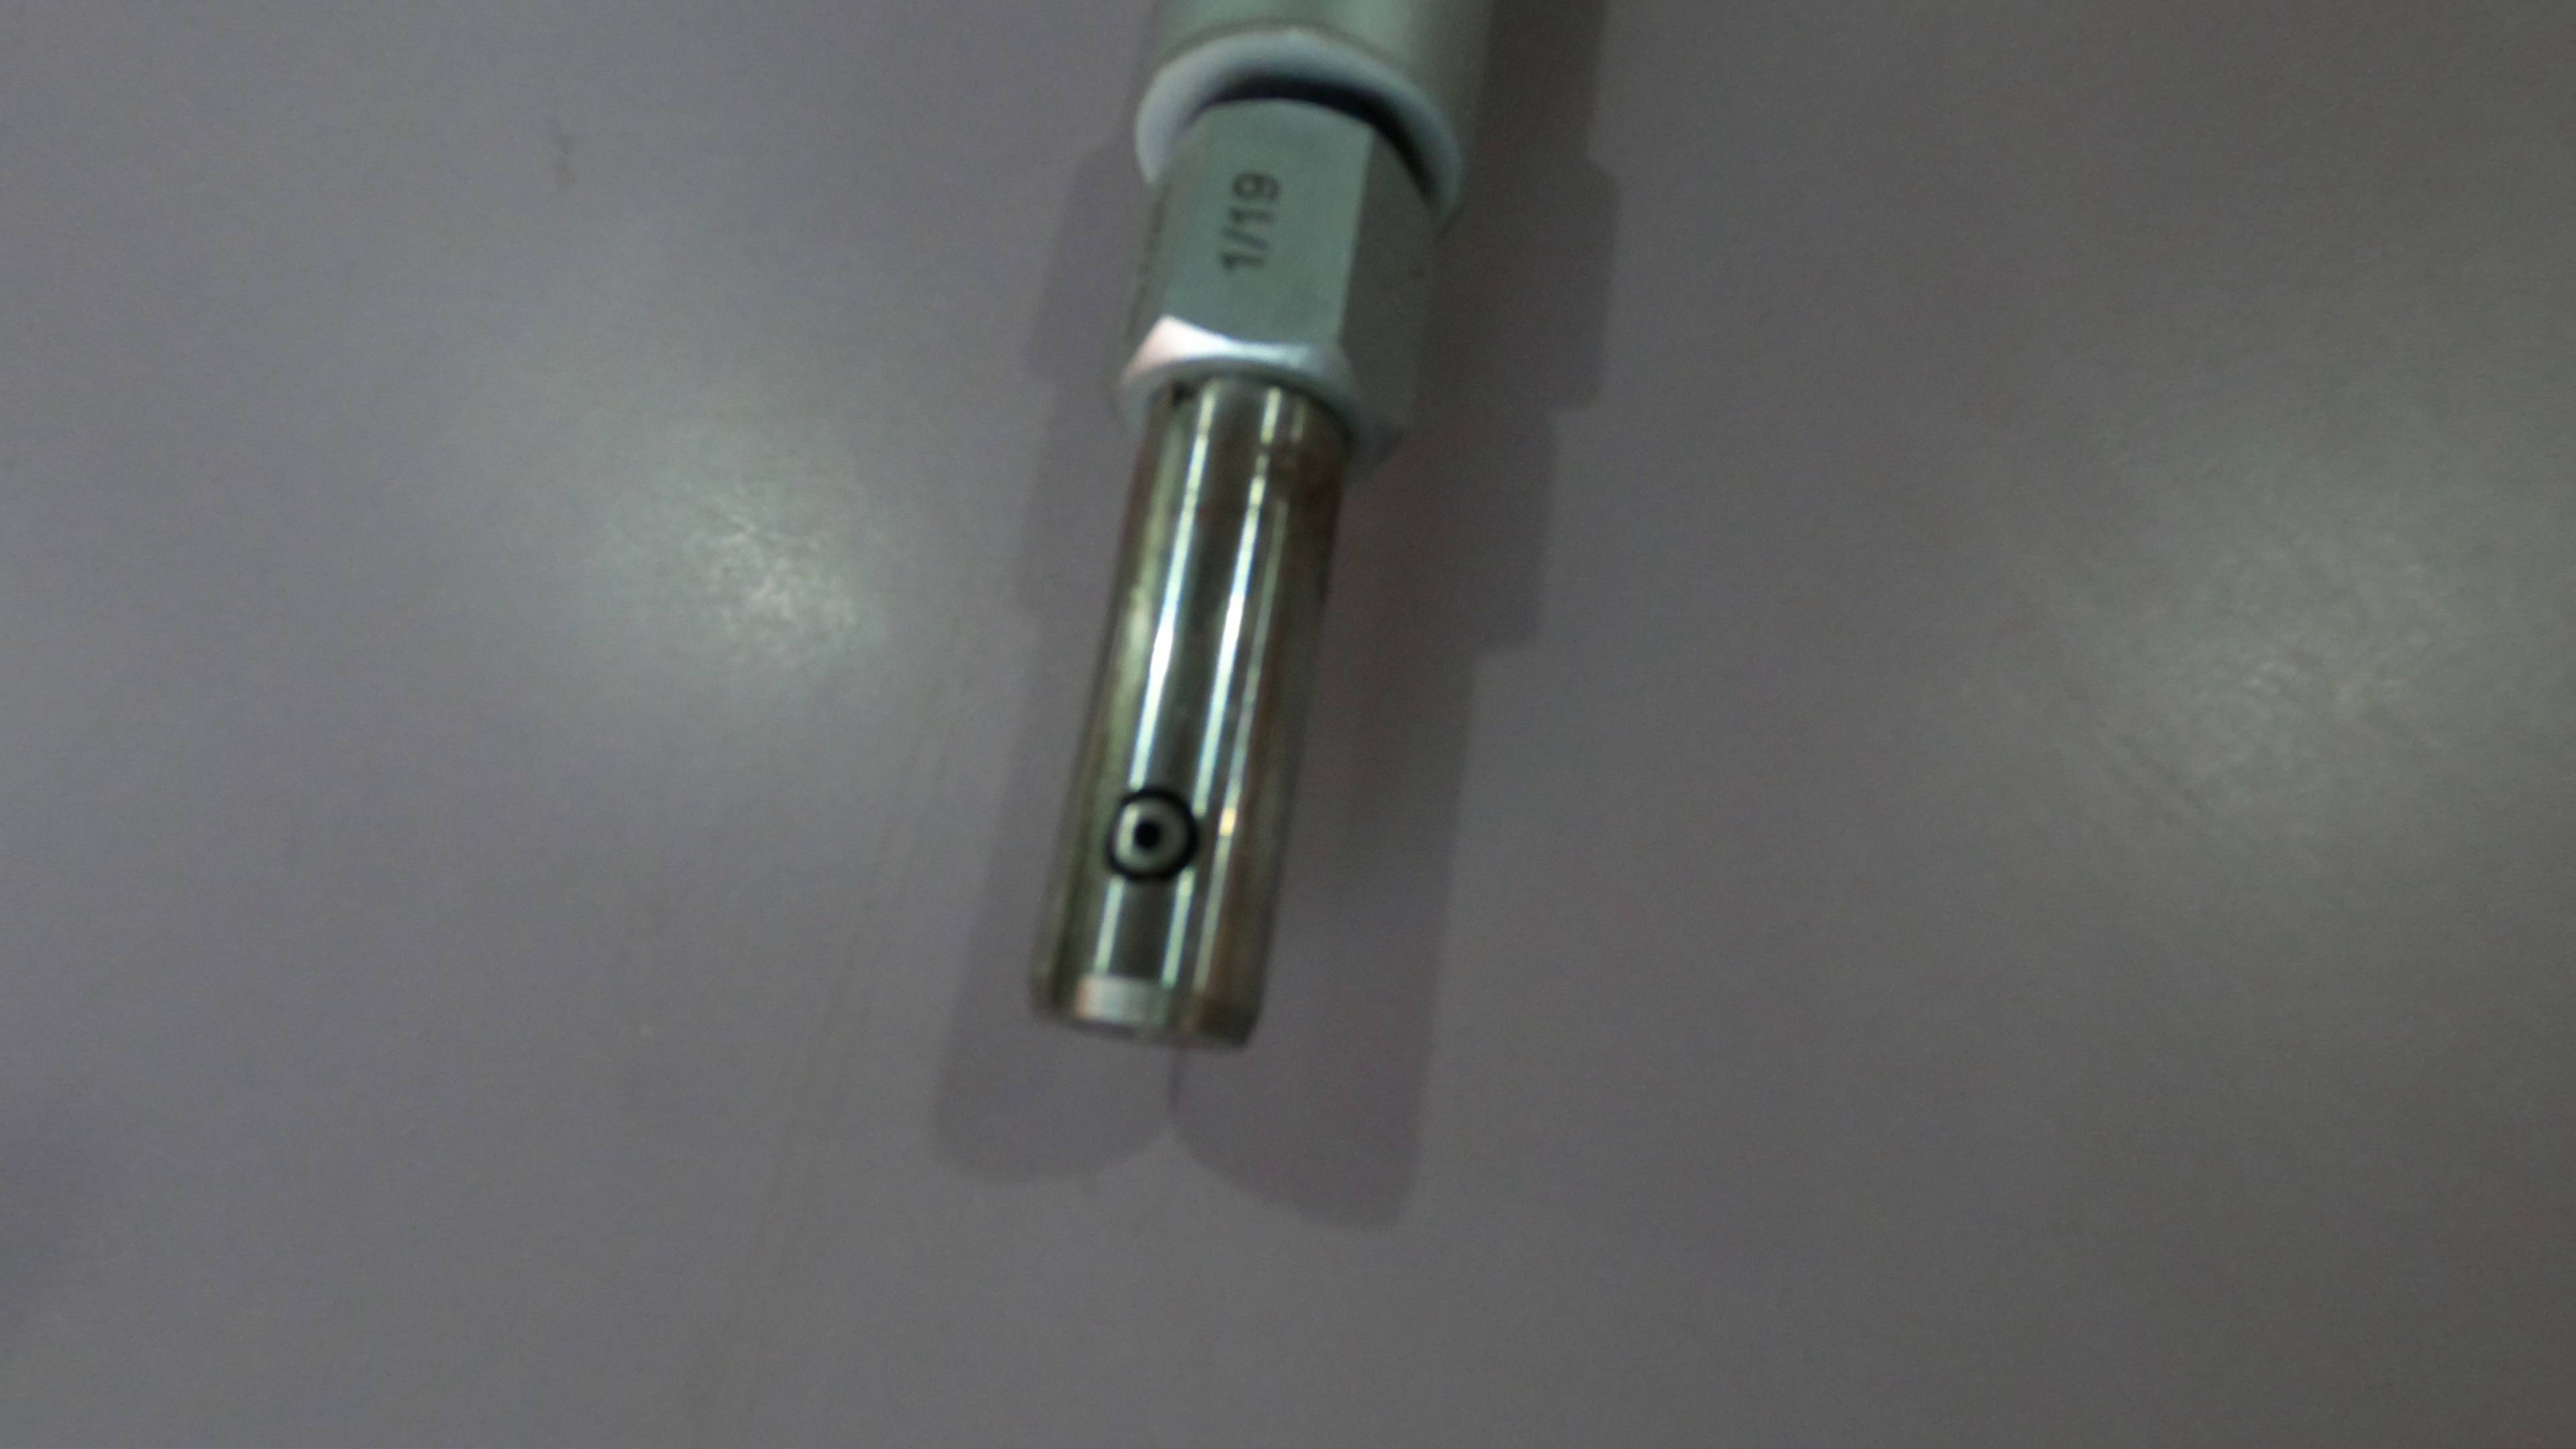air_gauge: (1019, 2, 1525, 1069)
